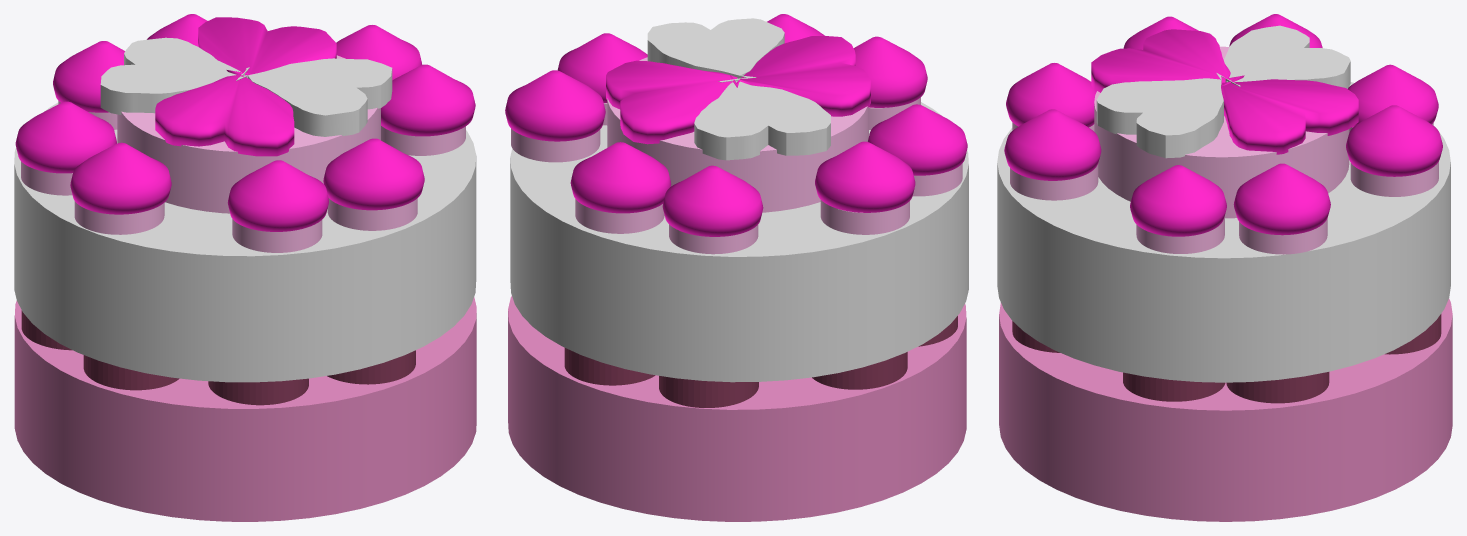
Rendered from Cake.fbx.
3 views of the same model, side by side, from view 1: azimuth 30°, elevation 25°; view 2: azimuth 150°, elevation 25°; view 3: azimuth 270°, elevation 25° (orthographic).
Visible parts, largest first — view 1: TopCake, BaseCake, CakeFilling.019, Cylinder, Cylinder.010, Cylinder.009, Cylinder.001, Cylinder.008, Cylinder.003, Cylinder.002, Dollops, Cylinder.007 (+12 smaller); view 2: TopCake, BaseCake, CakeFilling.019, Cylinder.009, Cylinder.001, Cylinder, Cylinder.010, TopDollops, Cylinder.007, Cylinder.005, Cylinder.004, Cylinder.008 (+12 smaller); view 3: TopCake, BaseCake, CakeFilling.019, Cylinder.010, Cylinder.001, Cylinder, Cylinder.009, Cylinder.002, Cylinder.004, TopDollops, Dollops, Cylinder.003 (+10 smaller).
Boxes of the visible parts, x1,y1,x2,y2 form: TopCake: (14,102,476,382); BaseCake: (14,297,476,521); CakeFilling.019: (117,55,380,213); Cylinder: (155,70,294,156); Cylinder.010: (236,58,392,136); Cylinder.009: (100,37,246,114); Cylinder.001: (198,17,336,75); Cylinder.008: (70,142,171,214); Cylinder.003: (227,160,328,231); Cylinder.002: (323,138,424,210); Dollops: (381,64,475,136); Cylinder.007: (15,101,116,173); TopCake: (510,102,968,382); BaseCake: (508,296,966,521); CakeFilling.019: (607,57,868,212); Cylinder.009: (694,78,830,160); Cylinder.001: (606,60,737,144); Cylinder: (730,36,870,116); Cylinder.010: (647,18,784,82); TopDollops: (505,70,605,141); Cylinder.007: (815,141,915,212); Cylinder.005: (662,165,763,236); Cylinder.004: (570,142,671,213); Cylinder.008: (867,104,967,175); TopCake: (997,82,1450,382); BaseCake: (999,298,1452,521); CakeFilling.019: (1094,46,1349,218); Cylinder.010: (1096,73,1240,158); Cylinder.001: (1221,79,1358,154); Cylinder: (1091,29,1244,92); Cylinder.009: (1221,25,1350,88); Cylinder.002: (1004,109,1101,180); Cylinder.004: (1346,105,1442,176); TopDollops: (1233,163,1330,235); Dollops: (1130,165,1226,236); Cylinder.003: (1006,63,1096,127).
Bounding box in the file's own units: 261 × 217 × 259.
